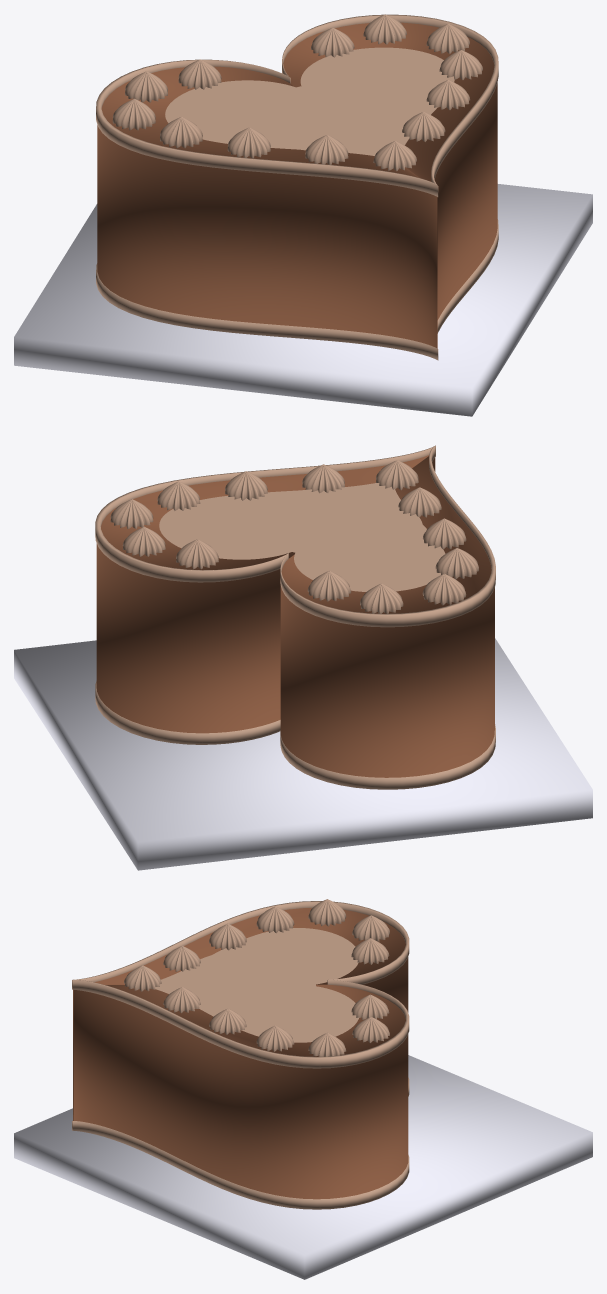
The model's file is heart_chocolate_style3.glb.
3 renders of one model, top to bottom at view 1: azimuth 30°, elevation 25°; view 2: azimuth 150°, elevation 25°; view 3: azimuth 270°, elevation 25°, orthographic. The views are drawn at different scales.
Parts seen in each view (by area): view 1: HeartCake, IcingStand, CakecolorCircle, IcingRing, CakeTopColor, IcingRing.001, design12, design9, design8, design10, design11, design7 (+7 smaller); view 2: HeartCake, IcingStand, CakecolorCircle, CakeTopColor, IcingRing, IcingRing.001, design12, design10, design9, design8, design11, design14 (+7 smaller); view 3: HeartCake, IcingStand, IcingRing, CakecolorCircle, CakeTopColor, IcingRing.001, design12, design9, design8, design10, design11, design4 (+7 smaller).
Part boxes in pixels (<box>): HeartCake: <box>97,22,497,348</box>; IcingStand: <box>14,184,592,416</box>; CakecolorCircle: <box>165,47,454,155</box>; IcingRing: <box>96,14,498,196</box>; CakeTopColor: <box>249,81,425,150</box>; IcingRing.001: <box>96,219,498,360</box>; design12: <box>112,98,155,130</box>; design9: <box>160,117,202,148</box>; design8: <box>227,127,270,158</box>; design10: <box>125,71,167,102</box>; design11: <box>178,59,221,89</box>; design7: <box>305,135,348,164</box>; HeartCake: <box>96,455,494,777</box>; IcingStand: <box>14,638,592,870</box>; CakecolorCircle: <box>159,483,445,591</box>; CakeTopColor: <box>246,489,422,557</box>; IcingRing: <box>95,445,495,627</box>; IcingRing.001: <box>95,681,495,789</box>; design12: <box>422,573,466,605</box>; design10: <box>360,583,403,613</box>; design9: <box>435,548,478,579</box>; design8: <box>423,518,466,549</box>; design11: <box>307,570,351,601</box>; design14: <box>176,539,218,569</box>; HeartCake: <box>73,908,408,1199</box>; IcingStand: <box>14,1055,592,1279</box>; IcingRing: <box>72,901,409,1068</box>; CakecolorCircle: <box>155,928,358,1042</box>; CakeTopColor: <box>178,950,315,1017</box>; IcingRing.001: <box>72,1077,409,1209</box>; design12: <box>308,899,346,926</box>; design9: <box>256,906,294,933</box>; design8: <box>209,924,246,950</box>; design10: <box>352,915,389,941</box>; design11: <box>351,938,389,964</box>; design4: <box>256,1025,294,1051</box>.
Bounding box in the file's own units: 4.24 × 1.56 × 4.24.
